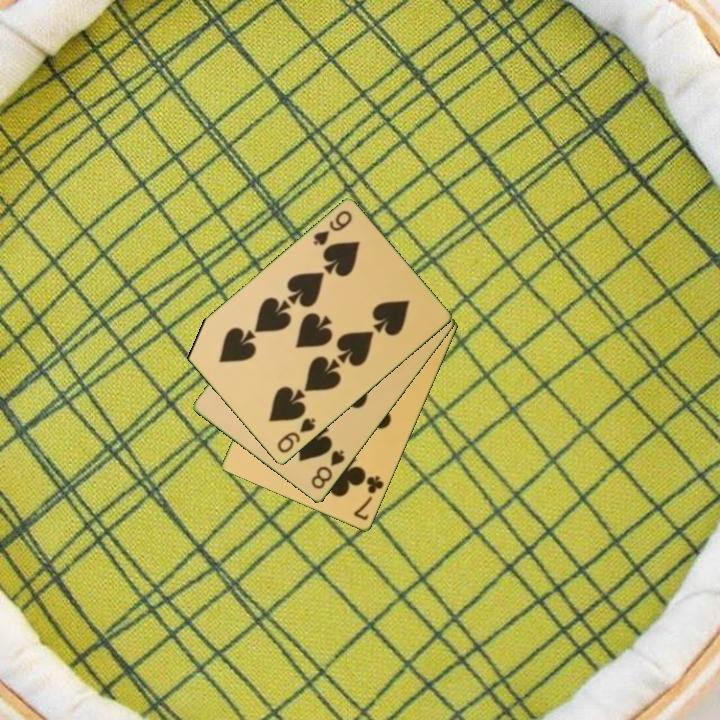7c: (350, 472, 387, 524)
8s: (307, 447, 348, 492)
9s: (273, 415, 319, 457), (310, 207, 355, 249)
